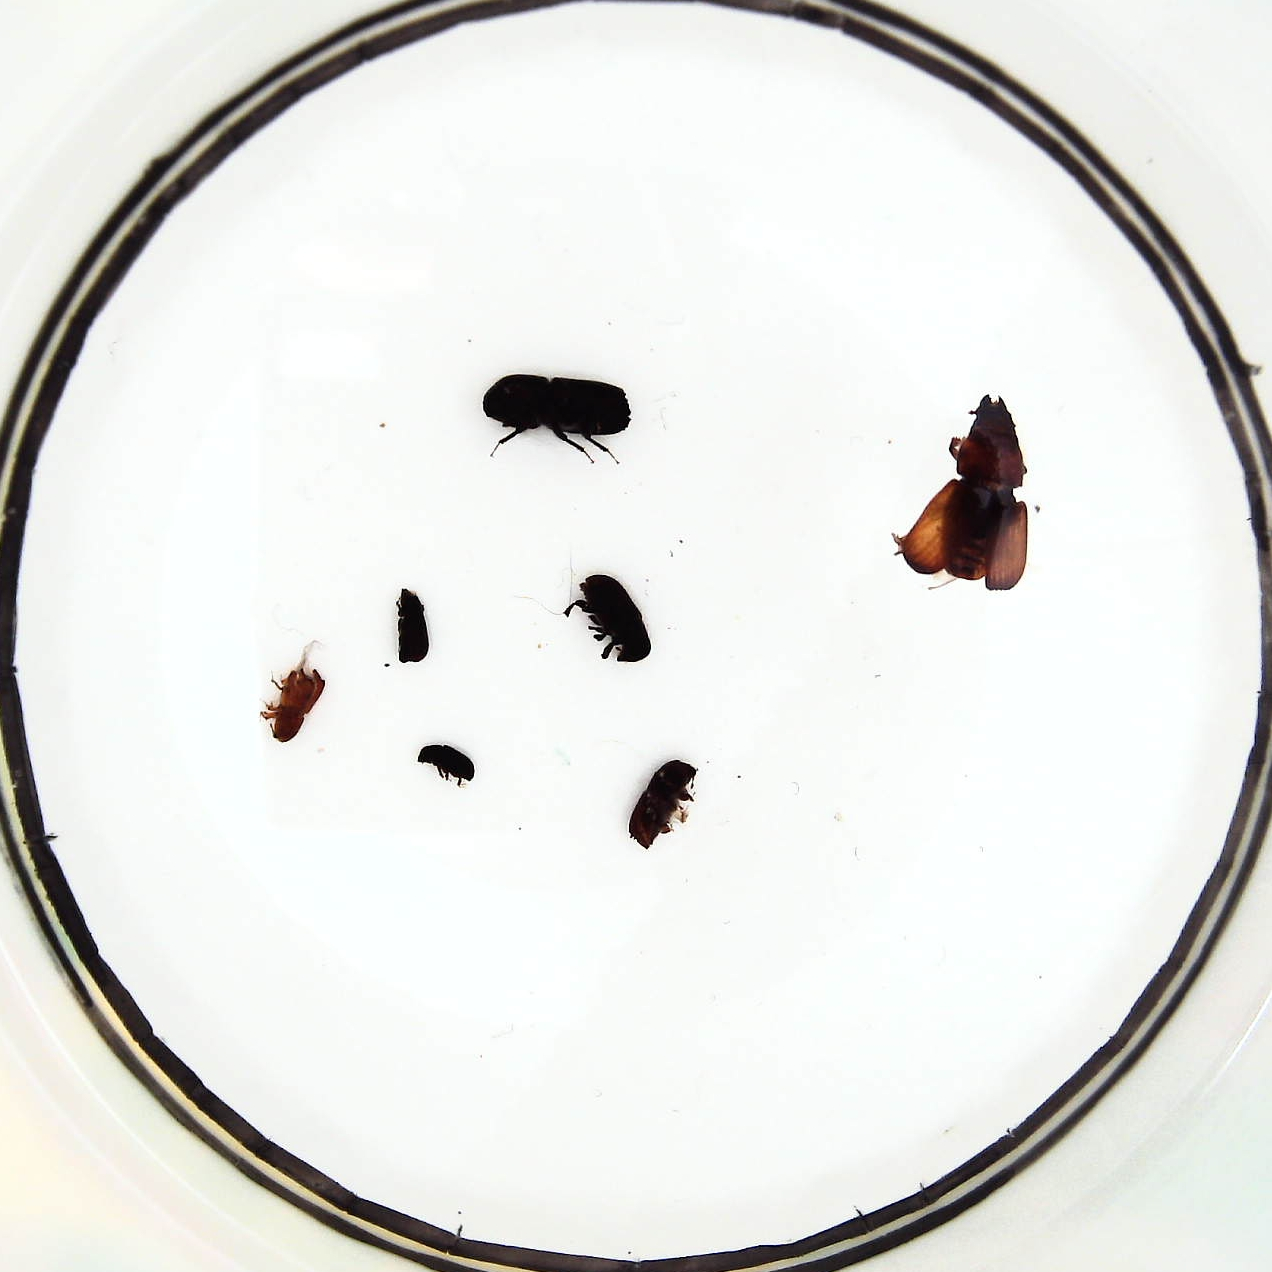Boerner: (483, 370, 633, 443)
Leconte: (895, 395, 1029, 595)
Linnaeus: (577, 574, 648, 665)
acuminatus: (262, 667, 324, 743)
armandi: (630, 759, 699, 851)
coleoptera: (417, 743, 478, 787), (395, 589, 427, 664)
